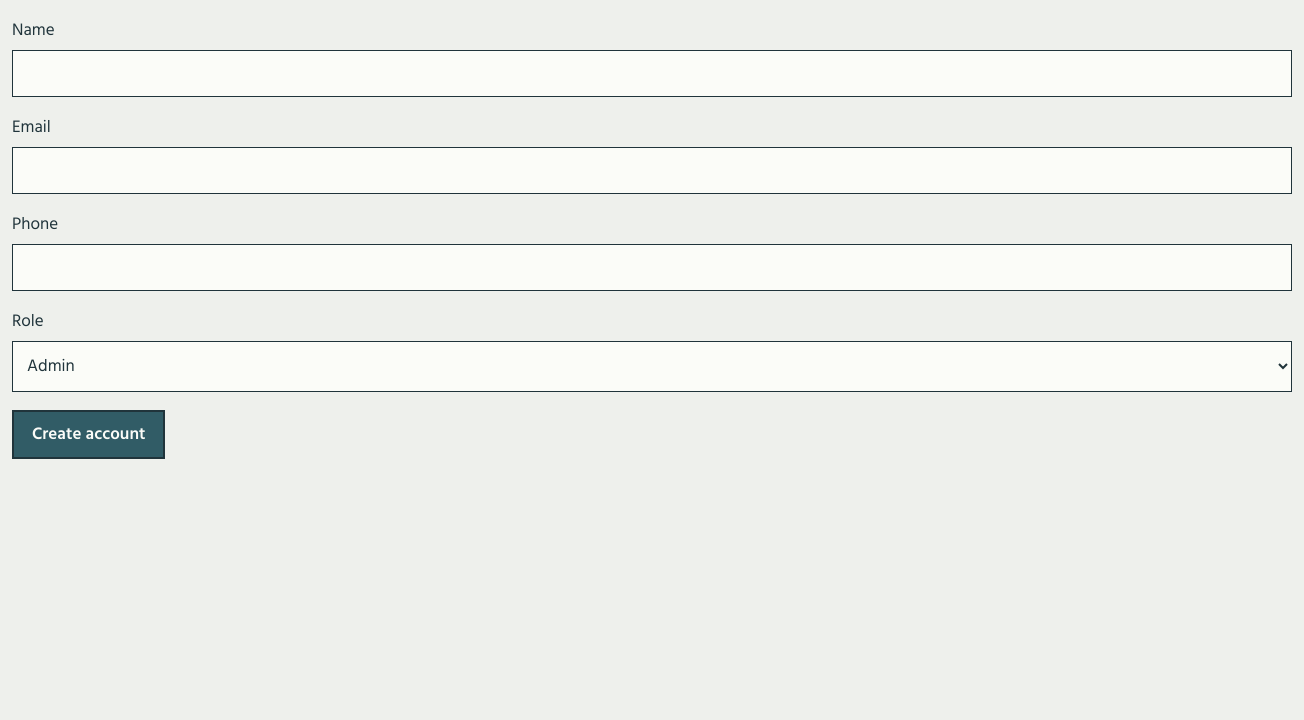
Test: user management interfaces › keeps last-admin server errors visible
What coordinates should you click on to do the following:
click the button "Create account"
I would click on:
 (89, 434)
Its box is x1=12 y1=410 x2=166 y2=459.
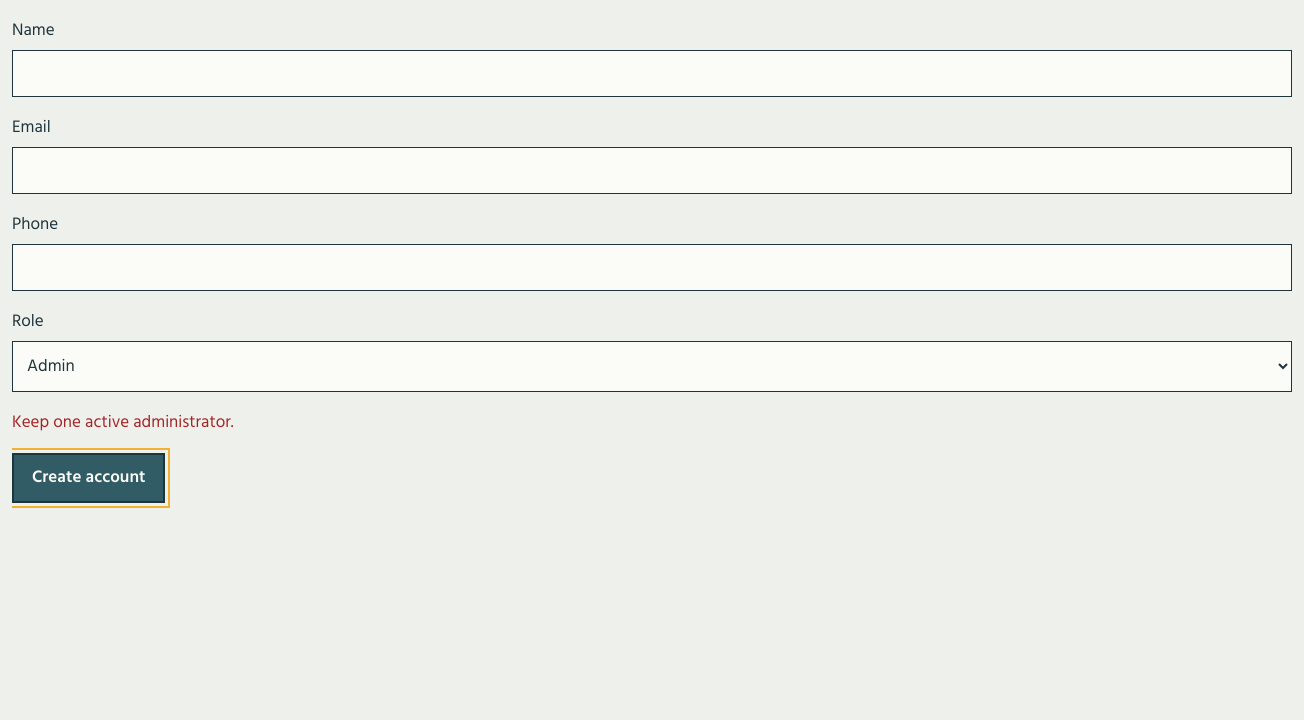
Now the text "Keep one active administrator." is shown, box x1=12 y1=408 x2=234 y2=436
